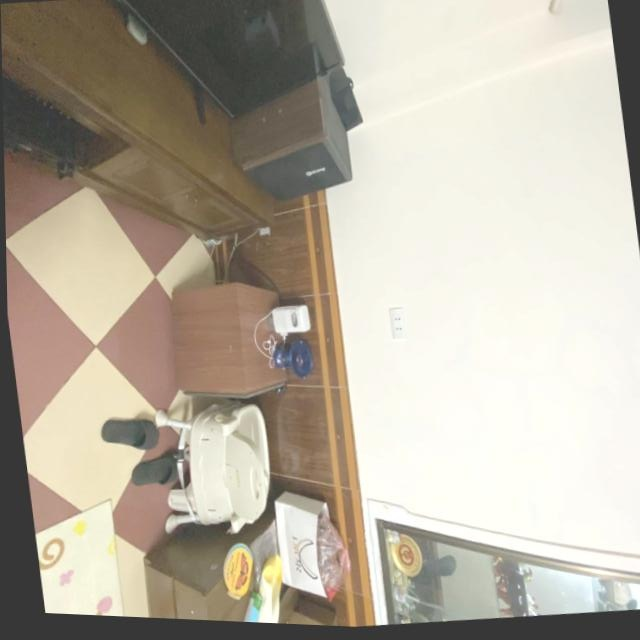outlet: (390, 306, 409, 340)
